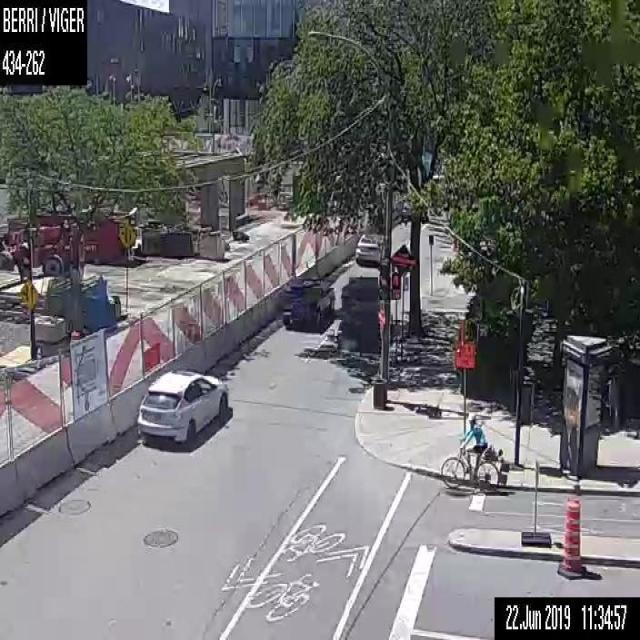construction: (453, 338, 475, 447), (555, 496, 583, 577)
cyclist: (439, 413, 509, 492)
vehicle: (136, 367, 229, 448), (281, 275, 334, 328), (353, 229, 385, 263)
